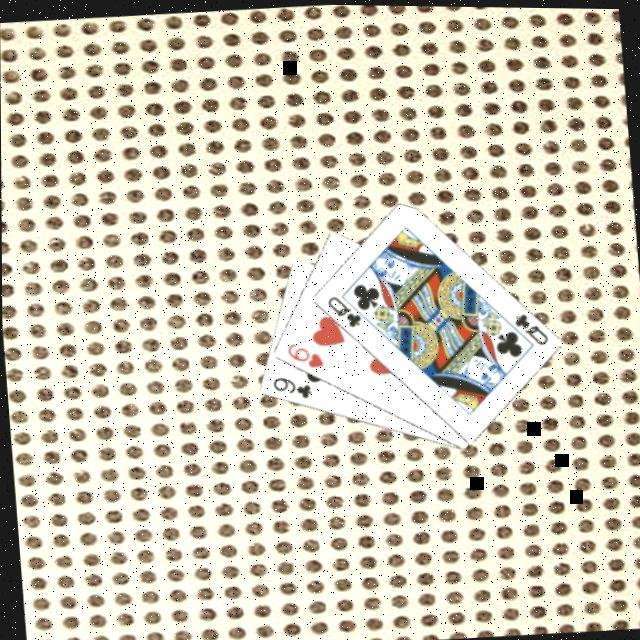6H: (284, 334, 326, 370)
9C: (270, 368, 316, 400)
QC: (511, 304, 552, 346), (324, 288, 366, 328)
